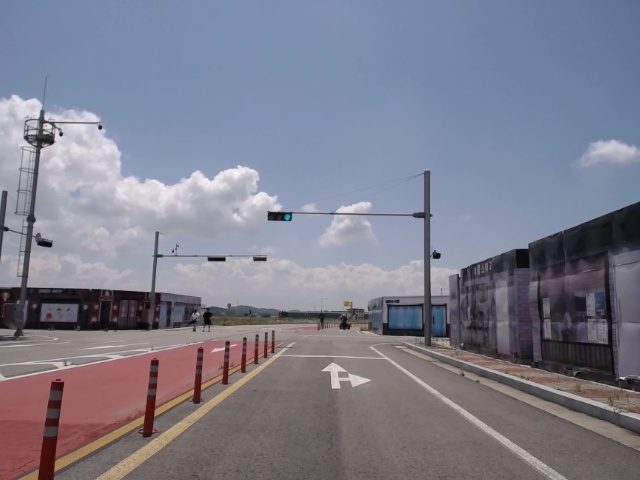green_3: (268, 212, 291, 220)
